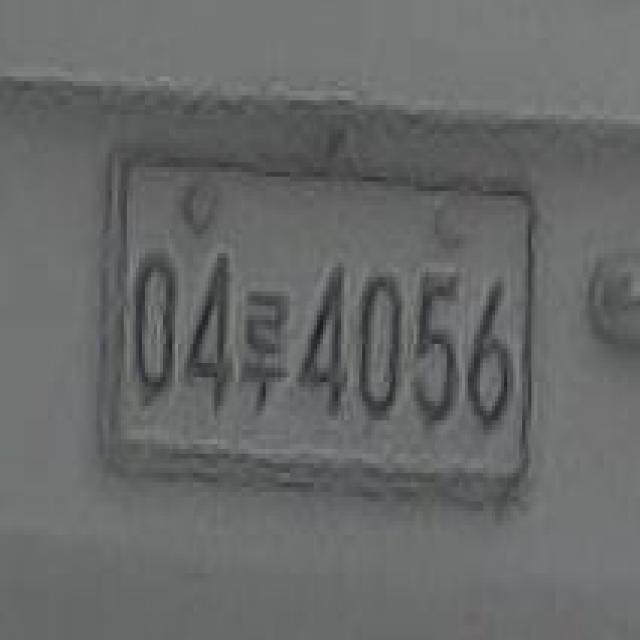illegal_plate: (97, 152, 544, 520)
